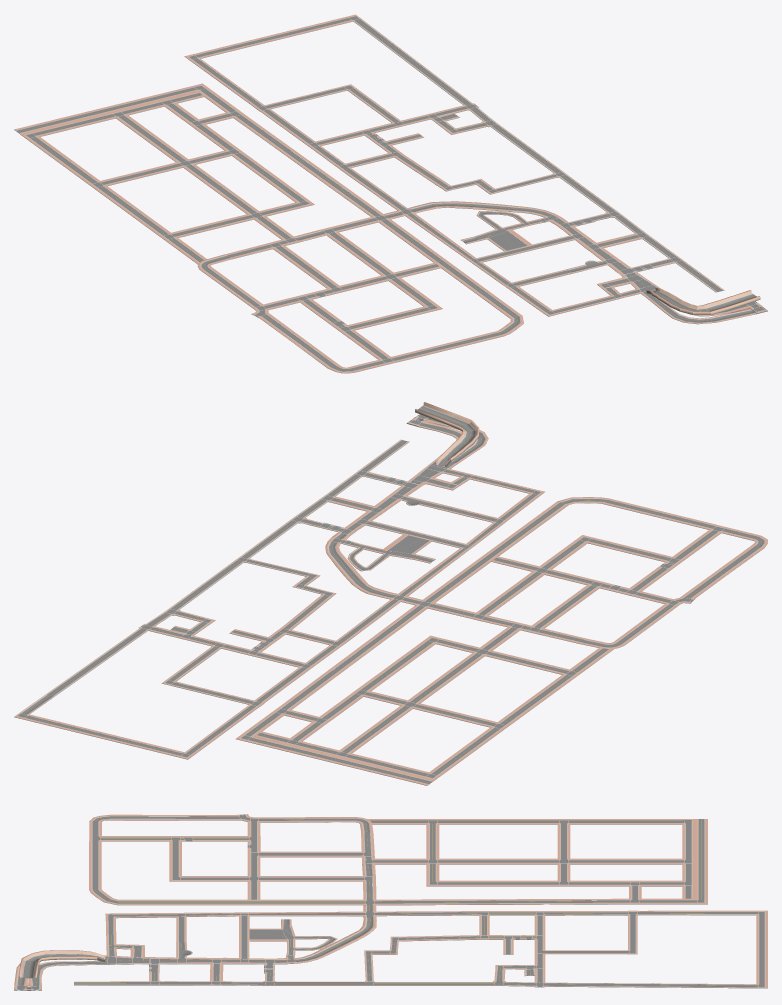
The model's file is street2.glb.
3 renders of one model, top to bottom at view 1: azimuth 30°, elevation 25°; view 2: azimuth 150°, elevation 25°; view 3: azimuth 270°, elevation 25°, orthographic. The views are drawn at different scales.
Visible parts, largest first — view 1: Road 8.035, Road 8.036, Road 2, Road 8.059, Road 8.004, Road 8.009, Road 3.012, Road 8.040, Road 4.034, Road 8.003, Road 3.003, Road 8.052 (+12 smaller); view 2: Road 8.035, Road 8.036, Road 2, Road 8.059, Road 8.004, Road 8.009, Road 3.012, Road 8.040, Road 4.034, Road 8.052, Road 8.057, Road 8.049 (+8 smaller); view 3: Road 8.035, Road 8.036, Road 2, Road 8.059, Road 8.004, Road 3.012, Road 8.040, Road 4.034, Road 8.052, Road 8.049, Road 8.009, Road 8.046 (+34 smaller).
Boxes of the visible parts, <box> form: Road 8.035: <box>378,219,523,336</box>; Road 8.036: <box>233,115,383,217</box>; Road 2: <box>646,288,760,314</box>; Road 8.059: <box>14,86,197,134</box>; Road 8.004: <box>197,244,272,307</box>; Road 8.009: <box>195,17,351,58</box>; Road 3.012: <box>353,19,472,105</box>; Road 8.040: <box>259,313,353,373</box>; Road 4.034: <box>405,213,510,284</box>; Road 8.003: <box>409,201,527,213</box>; Road 3.003: <box>641,293,756,324</box>; Road 8.052: <box>183,164,259,214</box>; Road 8.035: <box>423,497,608,602</box>; Road 8.036: <box>279,604,427,709</box>; Road 2: <box>415,402,479,467</box>; Road 8.059: <box>247,736,434,785</box>; Road 8.004: <box>537,603,676,648</box>; Road 8.009: <box>24,715,183,756</box>; Road 3.012: <box>21,628,148,714</box>; Road 8.040: <box>680,535,767,598</box>; Road 4.034: <box>398,522,501,596</box>; Road 8.052: <box>408,652,484,703</box>; Road 8.057: <box>497,674,574,725</box>; Road 8.049: <box>358,640,435,691</box>; Road 8.035: <box>89,889,363,905</box>; Road 8.036: <box>375,898,628,905</box>; Road 2: <box>18,950,105,978</box>; Road 8.059: <box>695,819,707,899</box>; Road 8.004: <box>260,817,374,851</box>; Road 3.012: <box>544,982,756,988</box>; Road 8.040: <box>89,814,241,821</box>; Road 4.034: <box>186,911,363,916</box>; Road 8.052: <box>438,858,558,864</box>; Road 8.049: <box>439,880,558,886</box>; Road 8.009: <box>756,915,767,983</box>; Road 8.046: <box>570,858,682,864</box>.
Size of the model in its own units: 602 by 21.23 by 1087.
